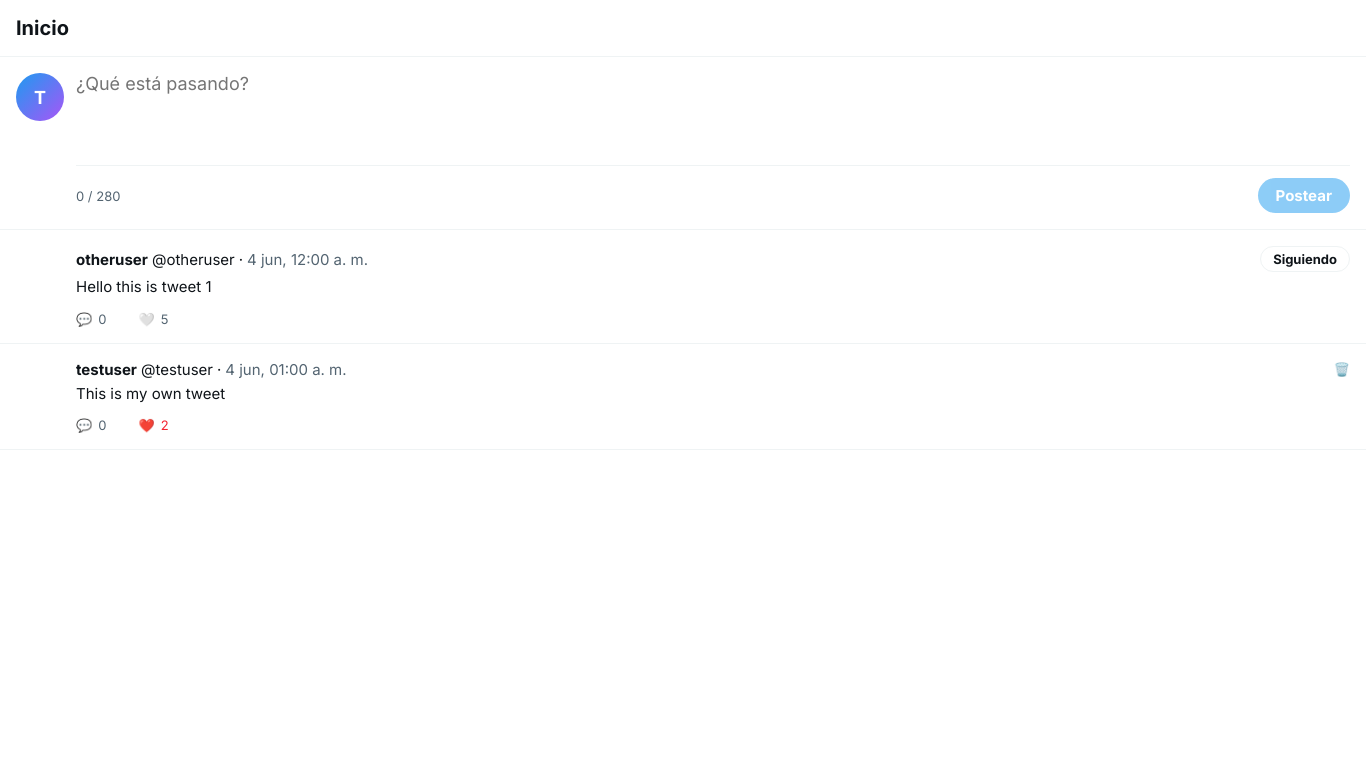
Test: Timeline Component Integration Tests › allows posting a new tweet successfully
Expected: the text "Hello this is tweet 1" is shown, [76,277,212,296]
Note: Type content
In the text box with placeholder "¿Qué está pasando?": [713, 113] box [76,73,1350,153], type "Just posted this brand new tweet!"
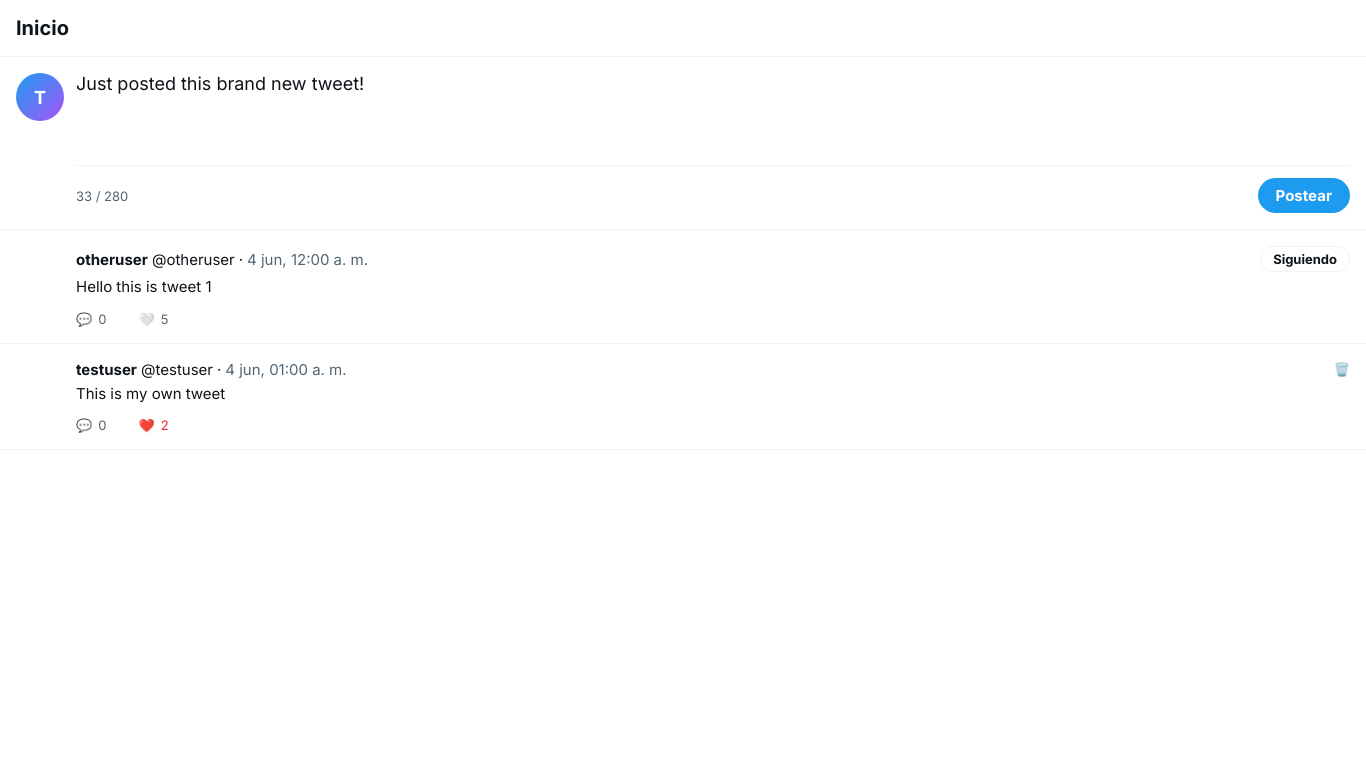
Result: the text "33 / 280" is shown at [76,188,128,204]
Note: Click submit
Click the button "Postear": [1304, 196] box [1258,178,1350,213]
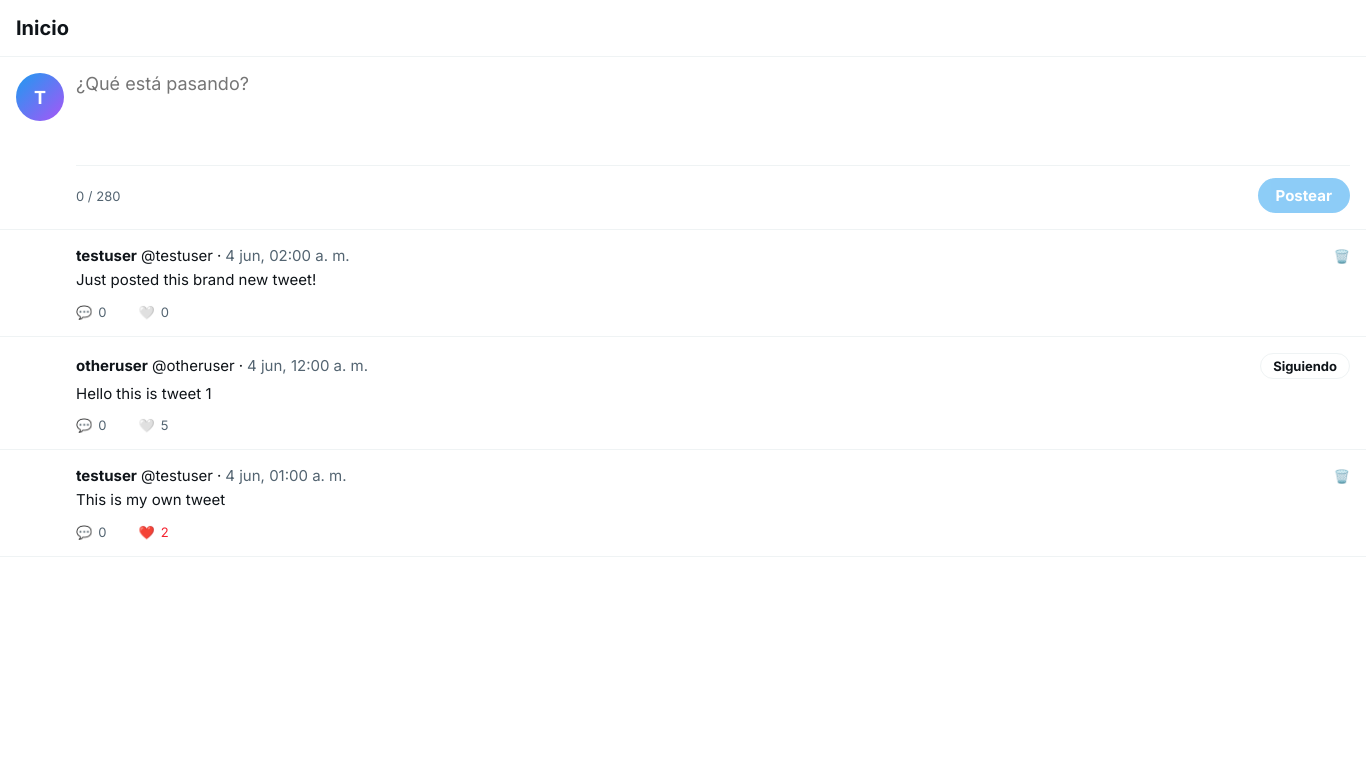
Result: the text "Just posted this brand new tweet!" is shown at [76,270,316,289]
